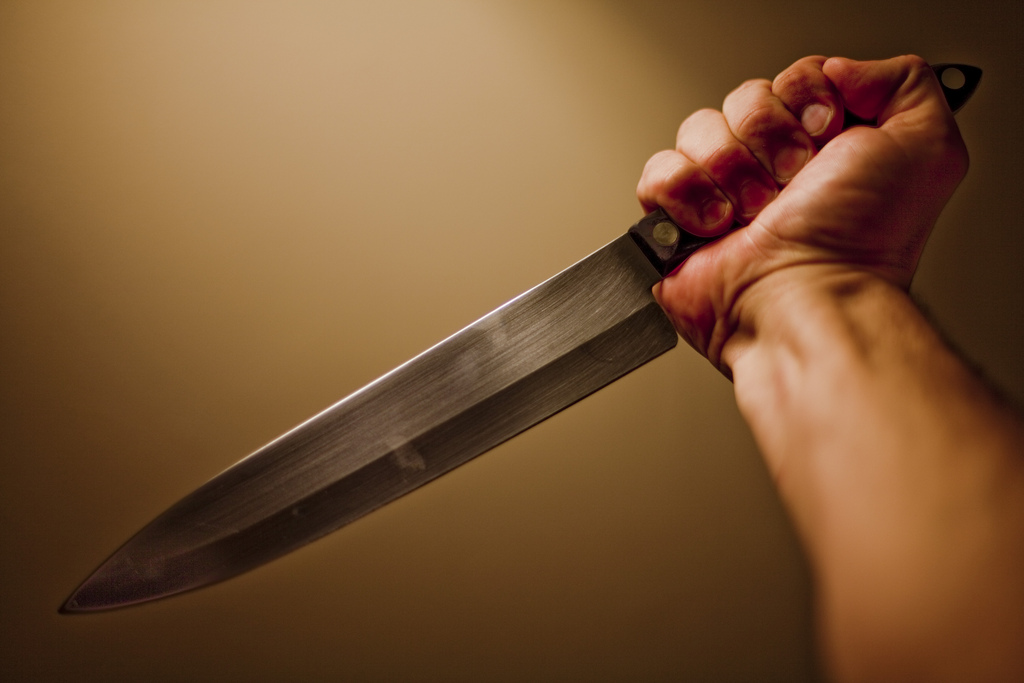knife: (39, 41, 829, 623)
